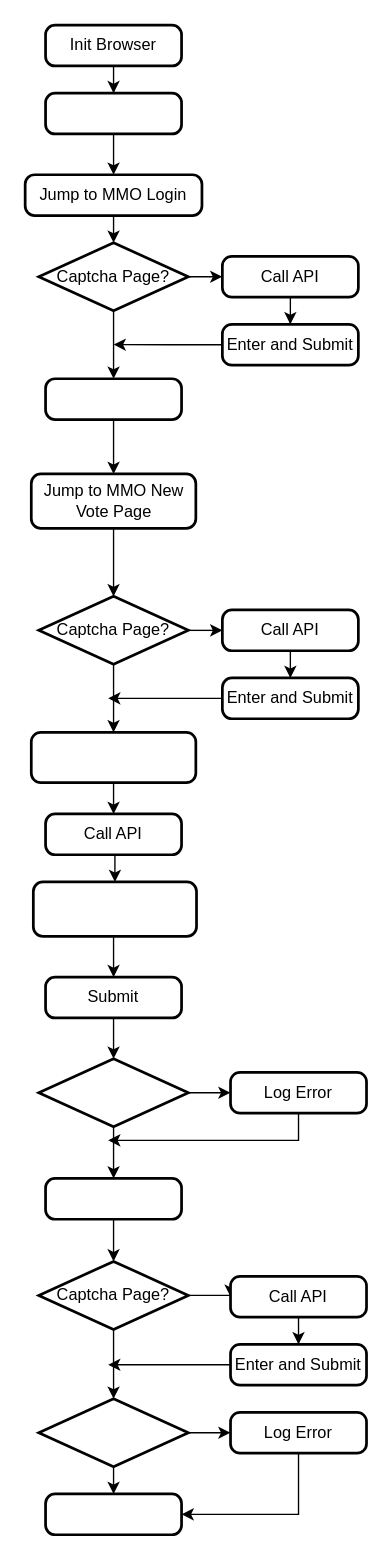
The diagram is 390 pixels wide and 1559 high, and some of its shapes have lost their labels. Here are the shapes that lost their labels. From the top down, the box of each, then its label:
(44, 91, 182, 135): Press Start
(44, 377, 182, 420): Enter account and submit
(29, 730, 197, 783): Call Showvote function
(31, 880, 197, 937): Enter AION Account andGoogle Captcha code
(37, 1057, 189, 1127): Vote Success Page?
(44, 1176, 182, 1220): Jump to Log out
(37, 1397, 189, 1467): Login Page?
(44, 1492, 182, 1535): One Turn Finished
